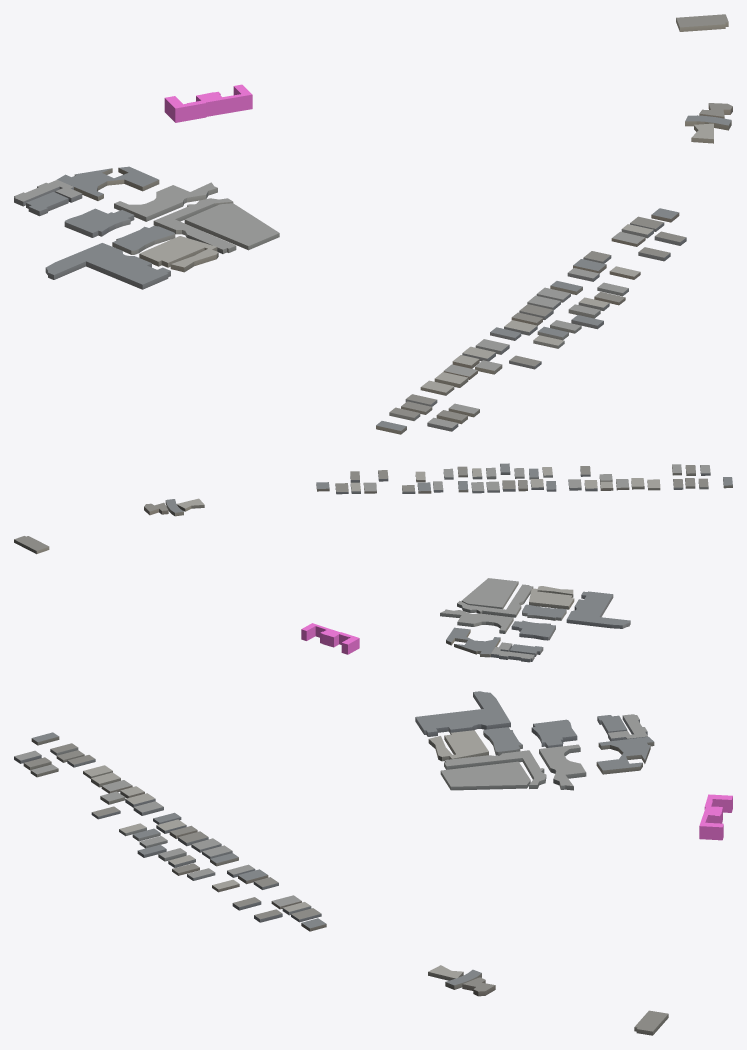
The model's file is bld_14_14.fbx.
3 renders of one model, top to bottom at view 1: azimuth 30°, elevation 25°; view 2: azimuth 150°, elevation 25°; view 3: azimuth 270°, elevation 25°, orthographic. The views are drawn at different scales.
Parts seen in each view (by area): view 1: bld_14_14_LOD0, bld_14_14_COL; view 2: bld_14_14_LOD0, bld_14_14_COL; view 3: bld_14_14_LOD0, bld_14_14_COL.
Part boxes in pixels (x1,y1,x2,y2): bld_14_14_LOD0: (14, 14, 732, 434); bld_14_14_COL: (164, 84, 252, 122); bld_14_14_LOD0: (14, 463, 732, 662); bld_14_14_COL: (301, 623, 359, 654); bld_14_14_LOD0: (14, 691, 668, 1035); bld_14_14_COL: (699, 794, 732, 840).
Size of what is drawn, in the model's own units: 2052 by 36.71 by 1834.
